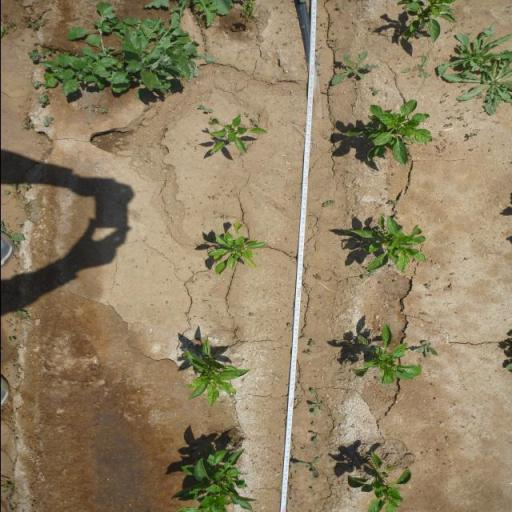plant: (340, 98, 435, 168), (170, 445, 263, 512), (178, 336, 252, 406), (351, 322, 421, 388), (350, 215, 428, 274), (344, 449, 413, 512), (205, 222, 269, 278), (396, 0, 458, 43), (208, 118, 268, 157)
weed: (44, 0, 132, 97), (119, 13, 198, 93), (437, 26, 512, 78), (443, 62, 512, 116), (148, 0, 235, 26), (328, 48, 380, 87), (400, 55, 430, 80), (290, 457, 321, 478), (307, 386, 327, 416), (28, 44, 55, 62), (414, 340, 439, 358), (24, 13, 48, 30), (10, 177, 32, 195), (240, 0, 256, 23), (10, 306, 32, 321), (34, 90, 52, 107), (0, 478, 16, 494), (21, 114, 35, 132), (309, 431, 323, 447), (9, 231, 29, 242), (0, 221, 14, 235), (4, 18, 18, 31), (358, 270, 376, 280), (27, 79, 45, 89), (196, 104, 214, 114), (44, 113, 54, 128), (322, 198, 336, 208), (18, 196, 31, 206), (248, 118, 261, 128), (369, 86, 381, 96), (333, 338, 346, 346), (385, 198, 398, 206), (464, 132, 477, 140), (5, 336, 16, 344), (307, 339, 316, 348), (220, 214, 233, 220), (302, 348, 311, 356), (456, 115, 465, 123), (335, 2, 342, 12), (312, 274, 322, 280), (186, 277, 196, 283), (299, 445, 307, 452), (444, 122, 452, 129), (315, 46, 323, 52), (100, 108, 108, 114), (3, 190, 11, 196), (286, 322, 292, 330), (206, 195, 214, 200), (424, 282, 430, 288), (244, 112, 250, 118), (15, 224, 23, 228), (83, 104, 89, 109), (439, 100, 446, 104), (248, 312, 253, 317), (90, 108, 96, 112), (310, 487, 314, 492), (310, 422, 315, 426), (446, 116, 452, 118)
